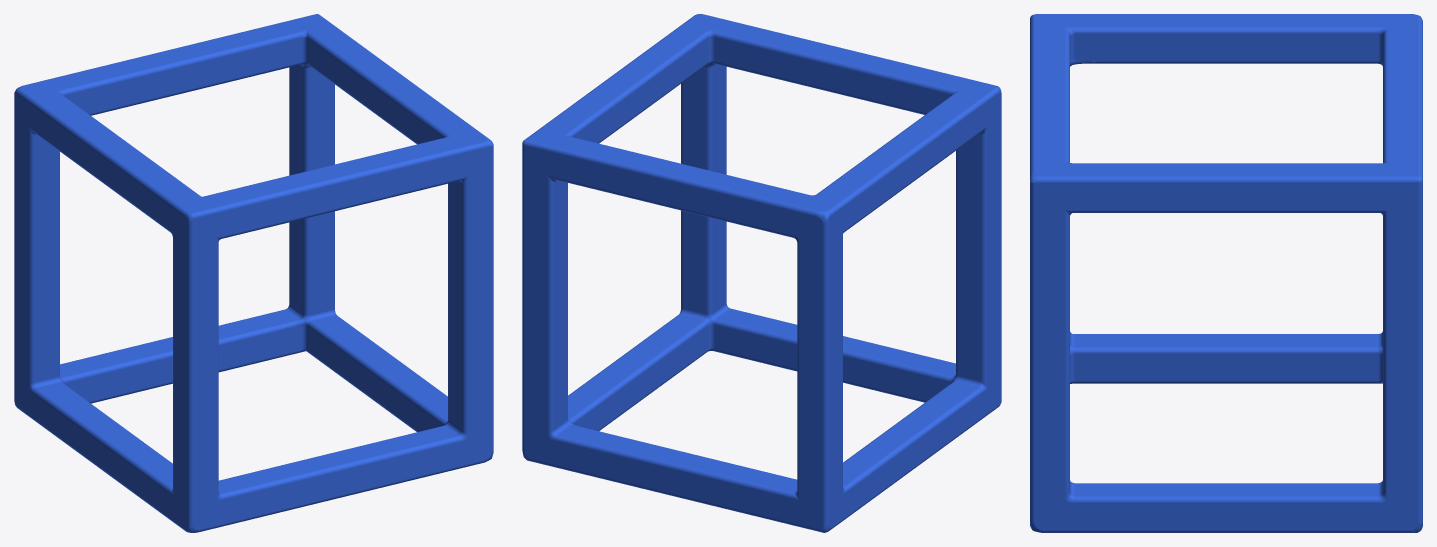
Rendered from BONBOX.glb.
3 renders of one model, left to right at view 1: azimuth 30°, elevation 25°; view 2: azimuth 150°, elevation 25°; view 3: azimuth 270°, elevation 25°, orthographic. The views are drawn at different scales.
Visible parts, largest first — view 1: 큐브; view 2: 큐브; view 3: 큐브.
Boxes of the visible parts, x1,y1,x2,y2 form: 큐브: [14, 14, 493, 532]; 큐브: [522, 14, 1001, 532]; 큐브: [1030, 14, 1422, 532].
Size of the model in its own units: 17.31 by 17.31 by 17.31.
